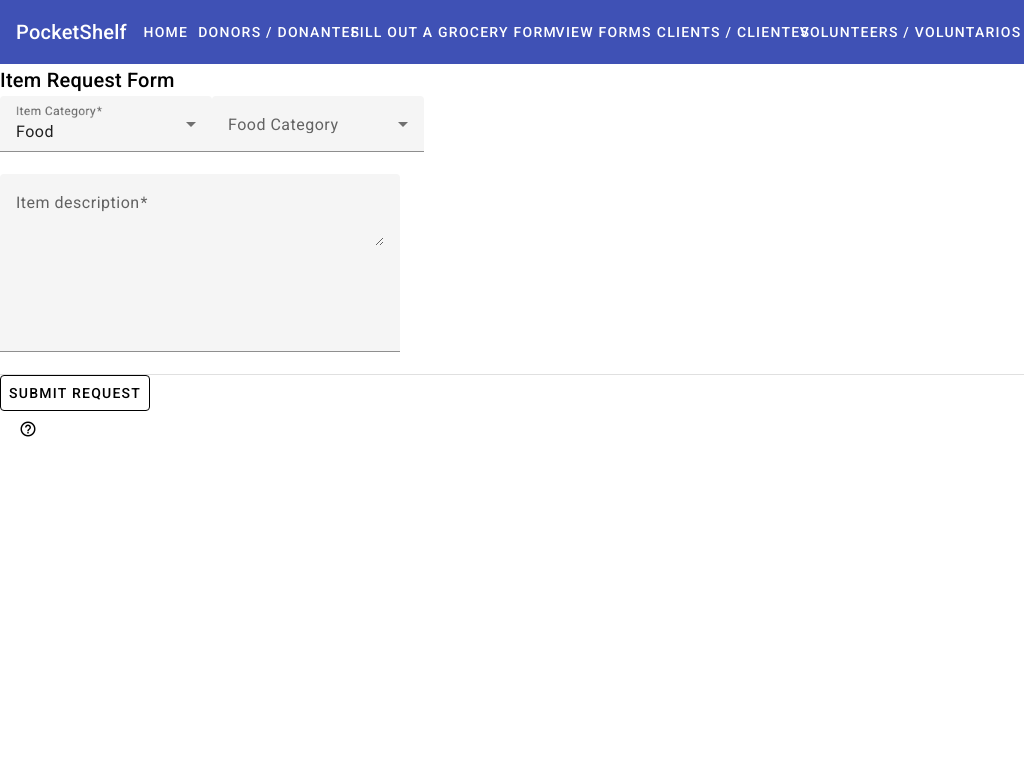
Test: Add donor request › Should have a help button and display the correct information
The width and height of the screenshot is (1024, 768).
Click the button with test id "new-request-help-button": (32, 429) top-left (0, 411), bottom-right (64, 447)
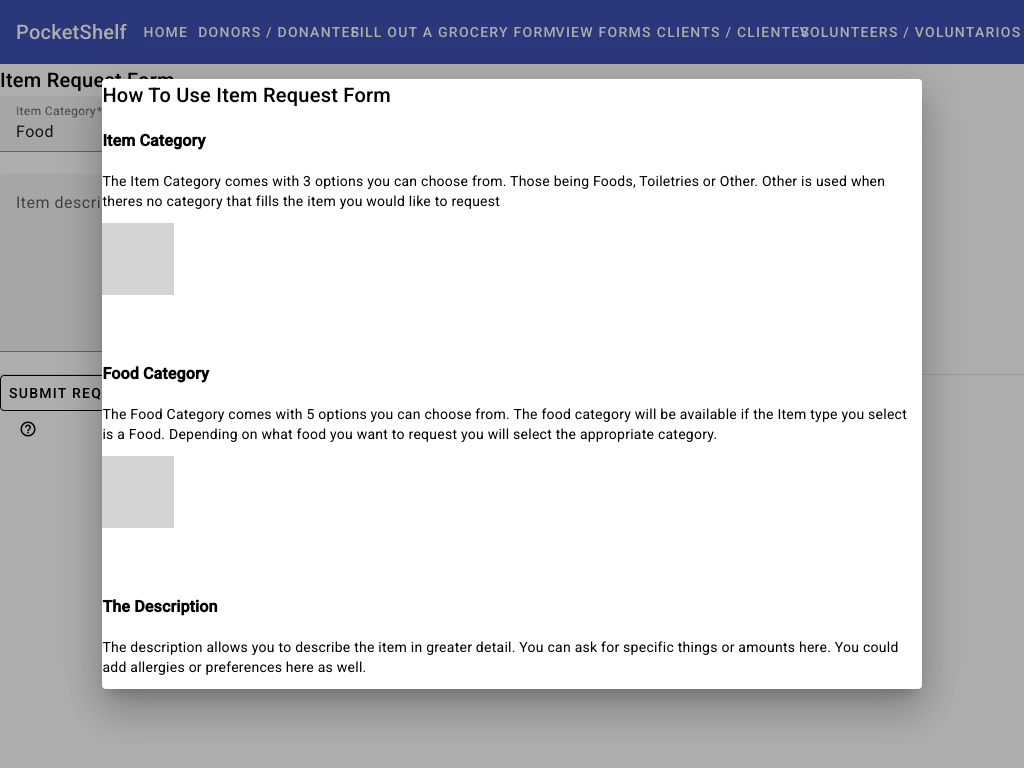
Expected: the heading with test id "help-title" reads "How To Use Item Request Form", top-left (102, 83), bottom-right (391, 107)
